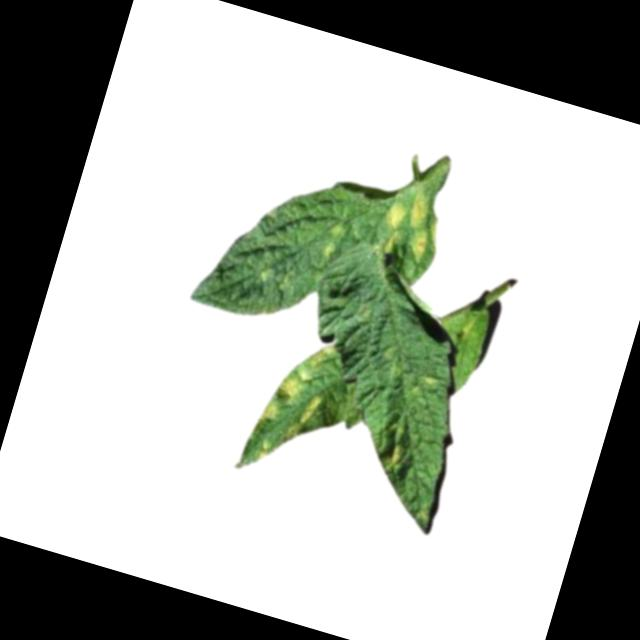Leaf_Mold: (245, 330, 340, 476), (374, 182, 449, 269), (374, 434, 413, 480)
